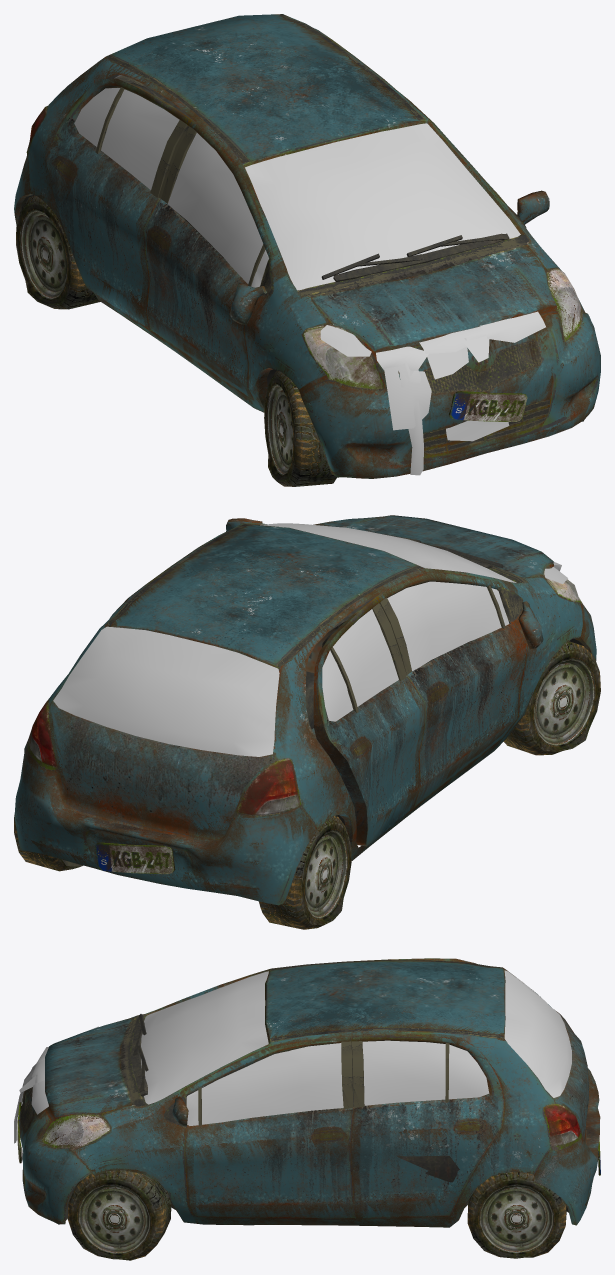
File: OutsideCarYaris.FBX
The picture shows the model from 3 angles, top to bottom: view 1: azimuth 30°, elevation 25°; view 2: azimuth 150°, elevation 25°; view 3: azimuth 270°, elevation 25°; orthographic projection. The views are drawn at different scales.
Parts seen in each view (by area): view 1: Yaris_Body, Yaris_Body_Windows, BeardMossBorderB001; view 2: Yaris_Body, Yaris_Body_Windows; view 3: Yaris_Body, Yaris_Body_Windows, BeardMossBorderB001.
Part boxes in pixels (bbox=[...]): Yaris_Body: bbox=[14, 14, 600, 486]; Yaris_Body_Windows: bbox=[74, 75, 520, 290]; BeardMossBorderB001: bbox=[320, 311, 545, 475]; Yaris_Body: bbox=[14, 515, 600, 929]; Yaris_Body_Windows: bbox=[53, 523, 516, 756]; Yaris_Body: bbox=[17, 958, 600, 1260]; Yaris_Body_Windows: bbox=[141, 970, 571, 1125]; BeardMossBorderB001: bbox=[14, 1026, 98, 1160].
Size of the model in its own units: 195 by 151 by 379.
